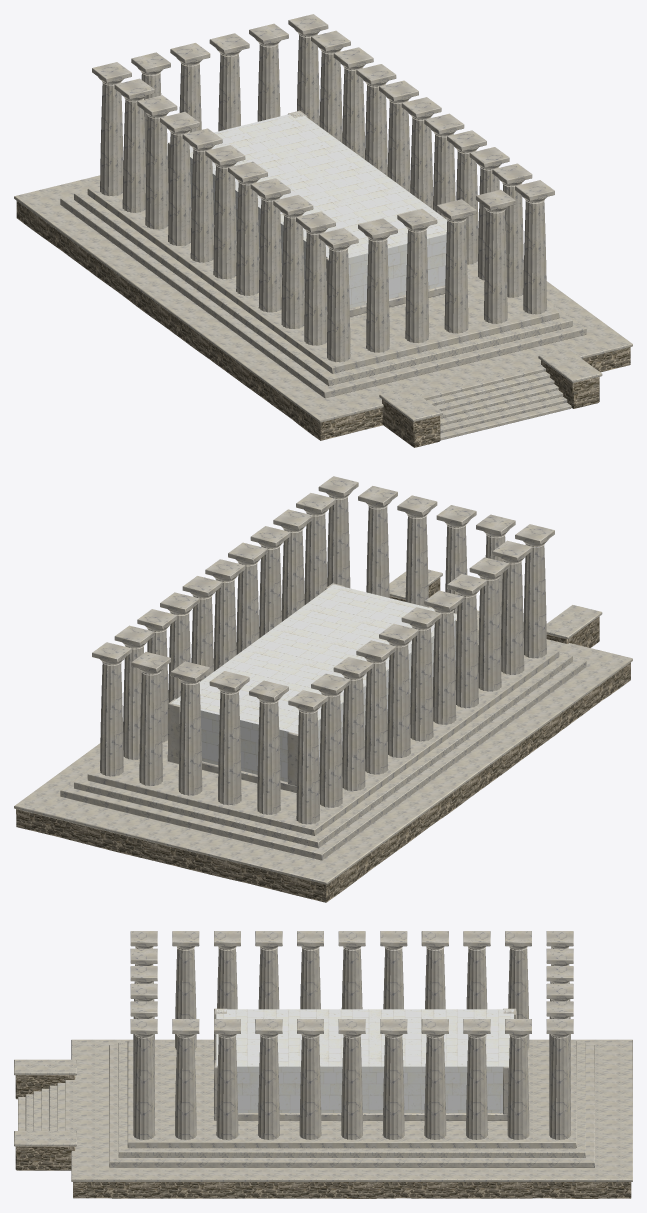
Rendered from civic_temple-zeus_stage2.glb.
The picture shows the model from 3 angles, top to bottom: view 1: azimuth 30°, elevation 25°; view 2: azimuth 150°, elevation 25°; view 3: azimuth 270°, elevation 25°; orthographic projection. The views are drawn at different scales.
Parts seen in each view (by area): view 1: marble, step, hall.001, stone; view 2: marble, step, hall.001, stone; view 3: marble, step, hall.001, stone.
Boxes of the visible parts, x1=… form: marble: x1=92, y1=14, x2=554, y2=362; step: x1=14, y1=131, x2=632, y2=440; hall.001: x1=189, y1=112, x2=447, y2=308; stone: x1=16, y1=201, x2=630, y2=447; marble: x1=92, y1=476, x2=554, y2=824; step: x1=14, y1=569, x2=632, y2=884; hall.001: x1=171, y1=584, x2=456, y2=781; stone: x1=16, y1=578, x2=630, y2=902; marble: x1=130, y1=931, x2=573, y2=1139; step: x1=14, y1=1039, x2=632, y2=1181; hall.001: x1=216, y1=1009, x2=513, y2=1112; stone: x1=15, y1=1075, x2=631, y2=1198.
Size of the model in its own units: 15.16 by 7.52 by 28.28.
Materials: 4 (4 with a texture image).
